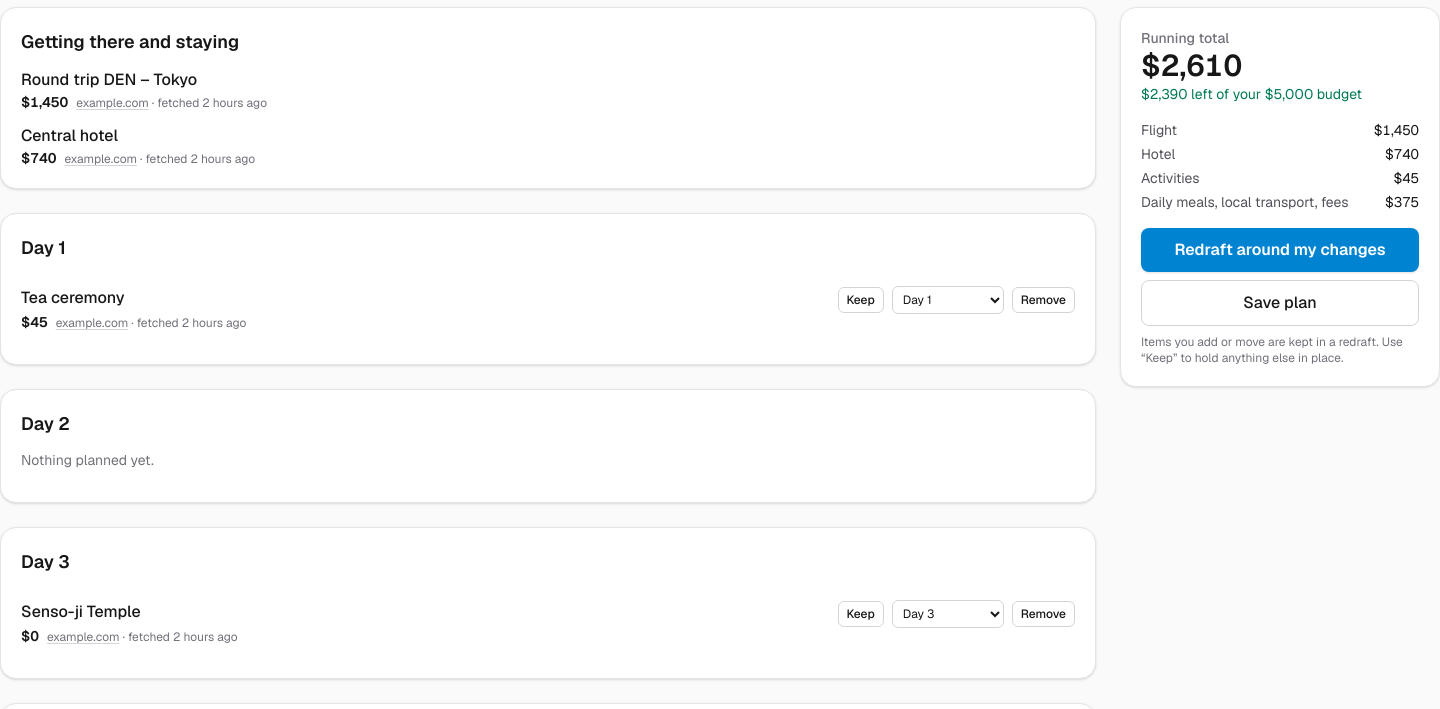
Test: PlanEditor › redraft sends locked items and removed ids, then lists what was dropped
Click the button with aria-label "Remove Tea ceremony" at [1043, 300], box [1012,287,1075,313]
(page scrolled)
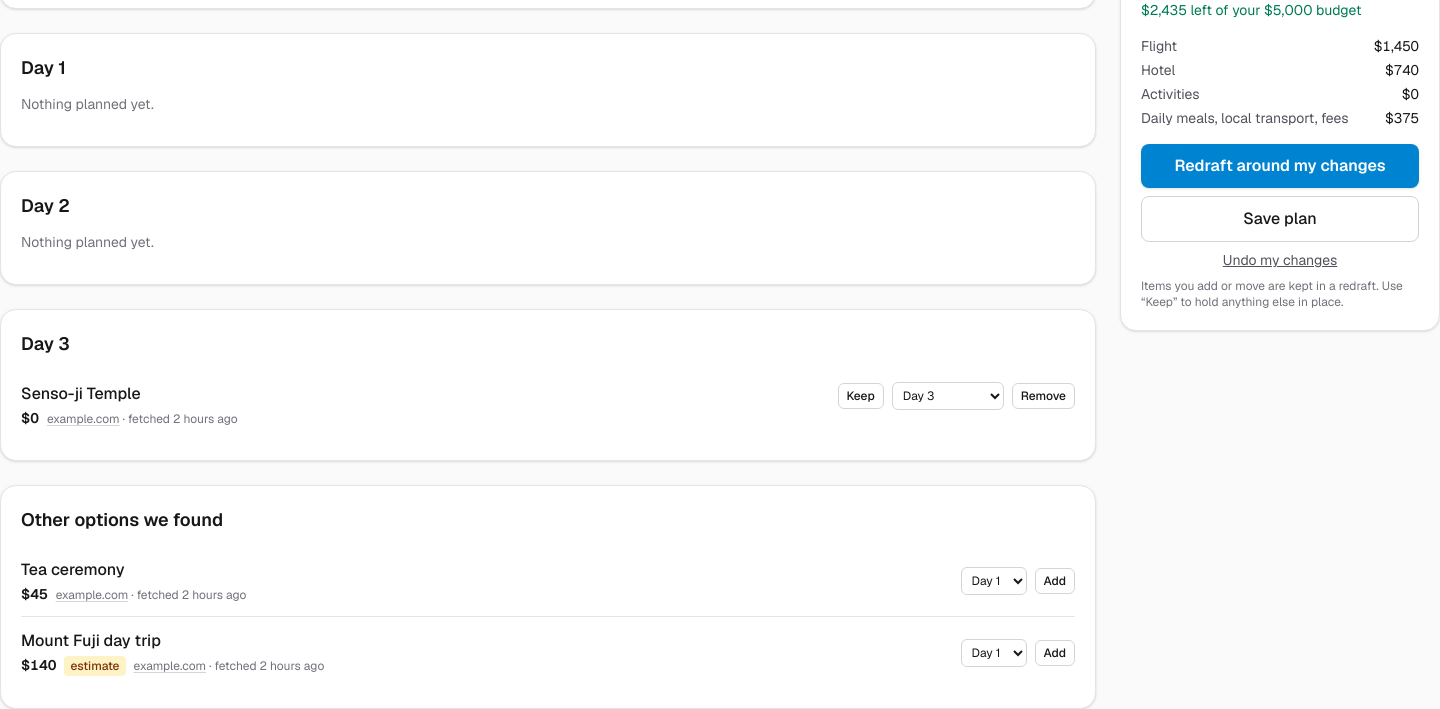
Click the button with aria-label "Add Mount Fuji day trip" at [1055, 652], box [1034,640,1075,666]
(page scrolled)
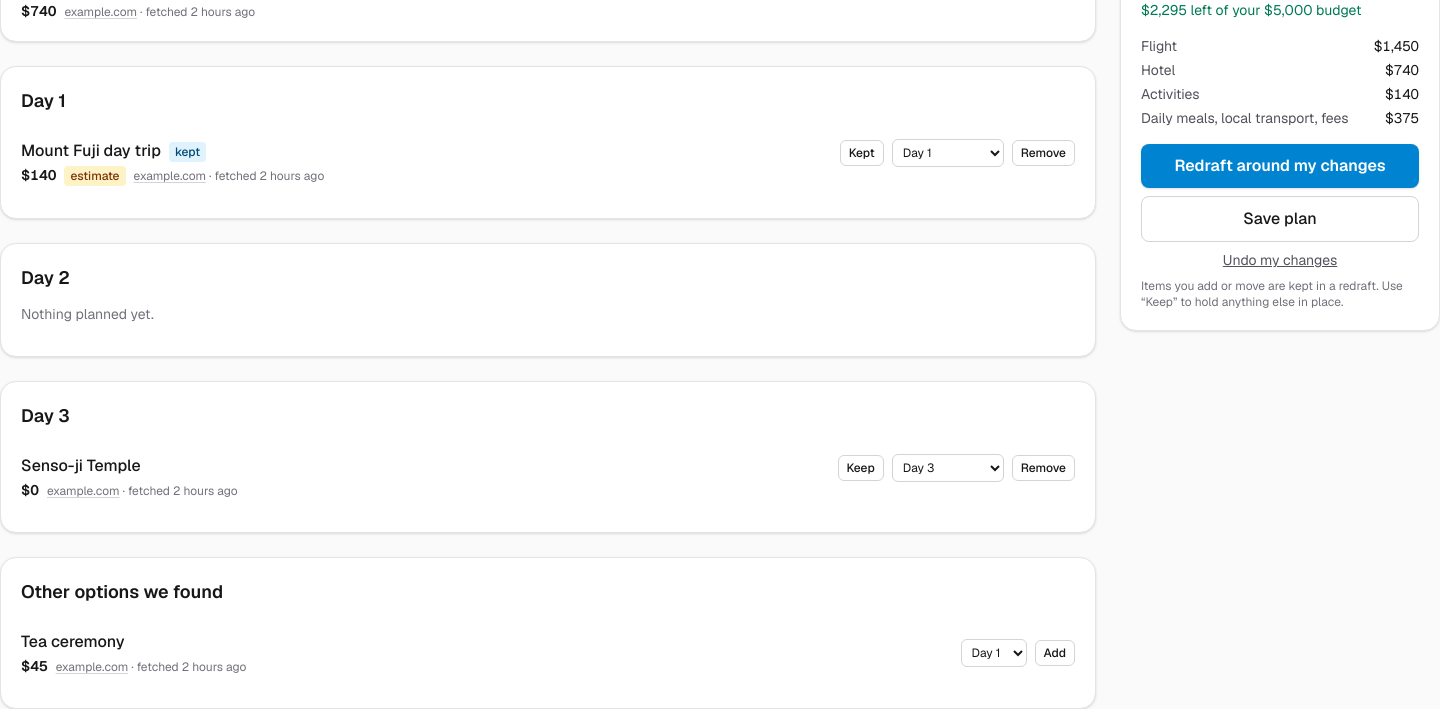
Click the button "Redraft around my changes" at [1280, 166], box [1141,144,1419,188]
(page scrolled)
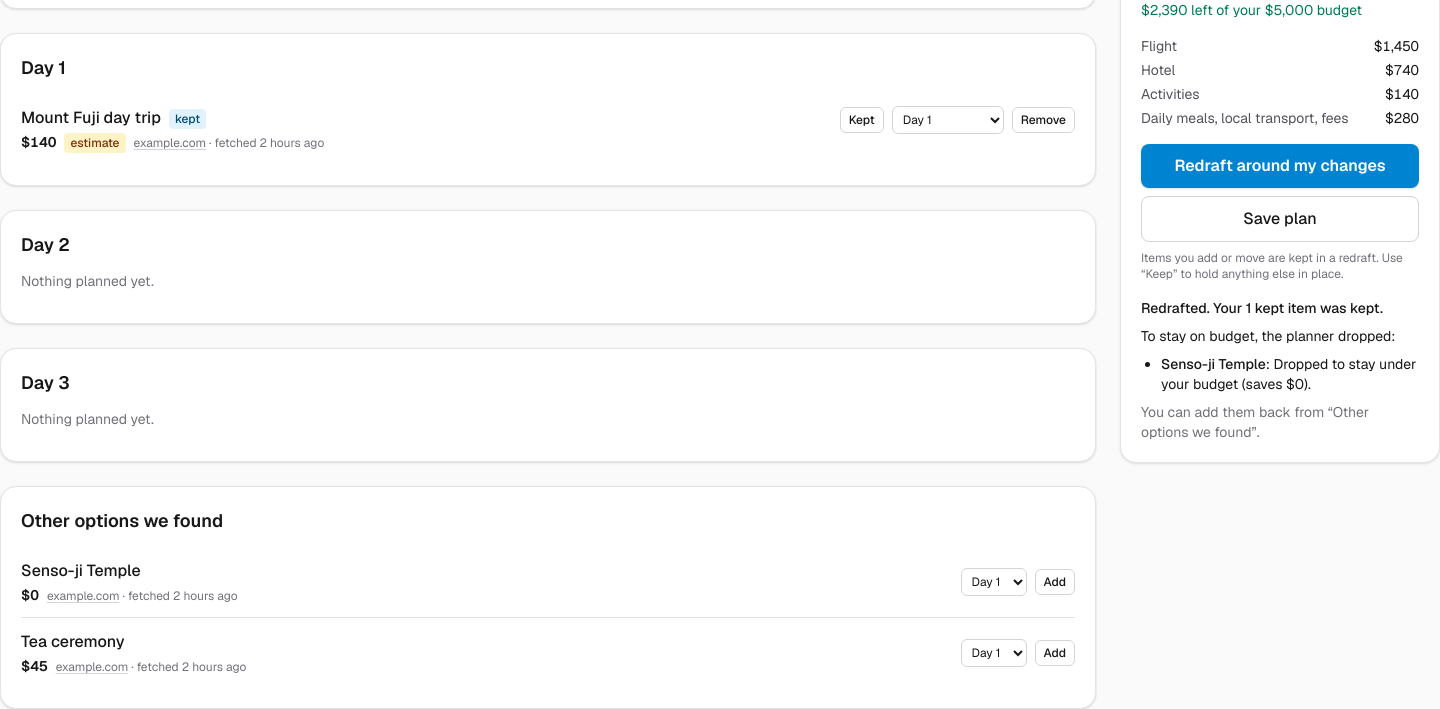
Result: the text "To stay on budget, the planner dropped:" is shown at [1141,326,1419,346]
Result: the list item "saves $0" is shown at [1161,355,1416,393]
